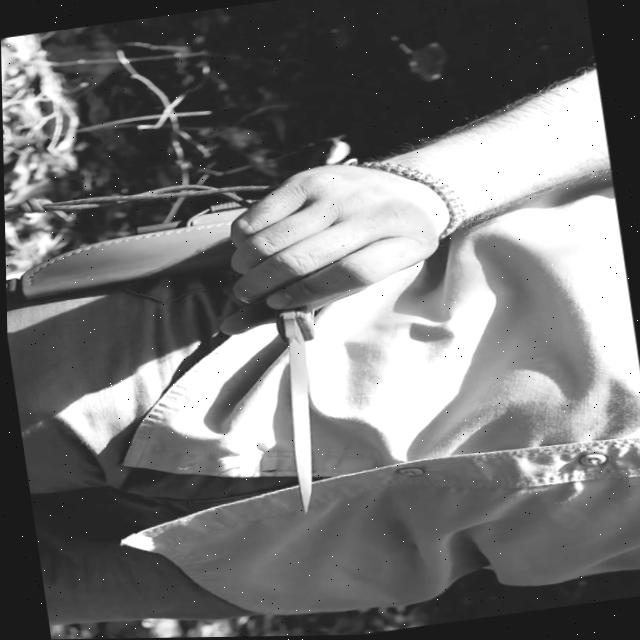knife: (240, 295, 364, 523)
